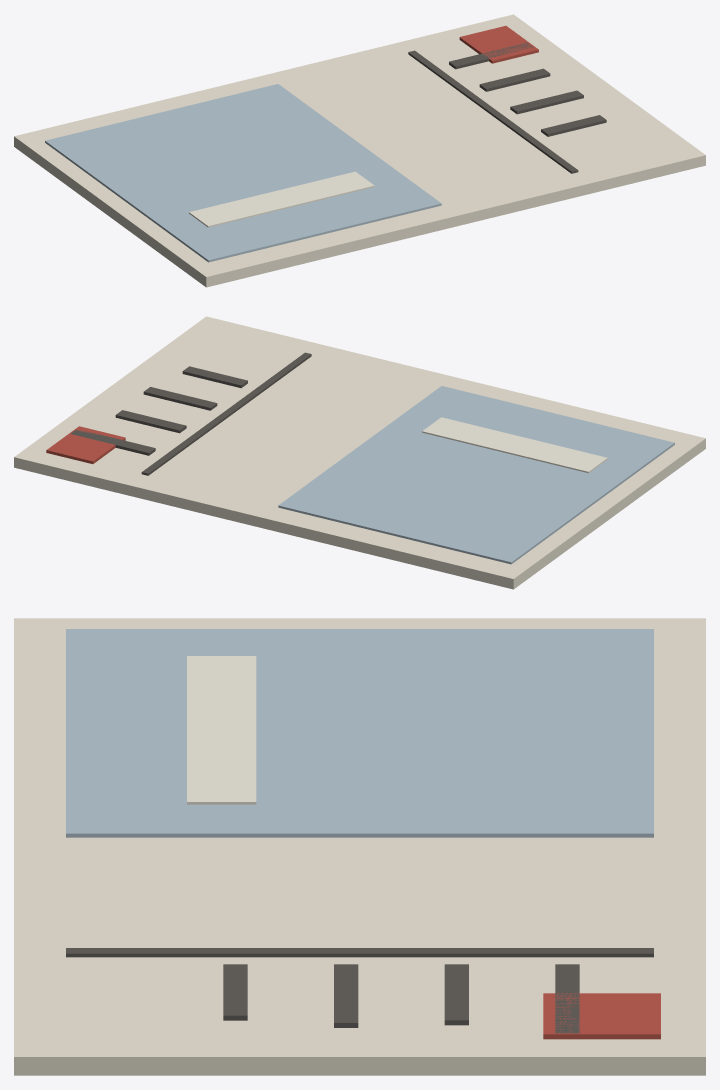
File: note_postcard.glb
3 renders of one model, top to bottom at view 1: azimuth 30°, elevation 25°; view 2: azimuth 150°, elevation 25°; view 3: azimuth 270°, elevation 25°, orthographic. The views are drawn at different scales.
Parts seen in each view (by area): view 1: Postcard; view 2: Postcard; view 3: Postcard.
Boxes of the visible parts, left/top/right/bottom form: Postcard: left=14, top=14, right=705, bottom=287; Postcard: left=14, top=316, right=705, bottom=589; Postcard: left=14, top=618, right=705, bottom=1075.
Bounding box in the file's own units: 0.15 × 0.004 × 0.1.
